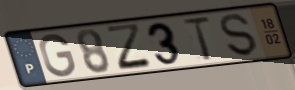3: (146, 19, 188, 68)
8: (75, 27, 113, 75)
G: (38, 32, 78, 79)
S: (218, 12, 260, 58)
T: (180, 15, 215, 64)
Z: (104, 22, 157, 73)
